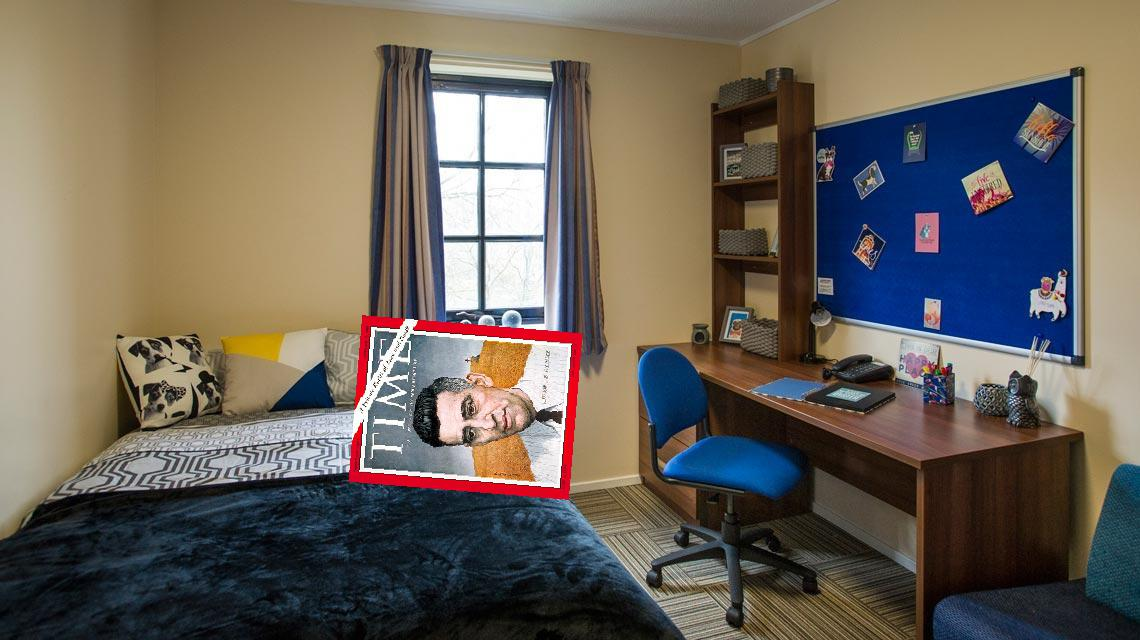times: (343, 316, 584, 496)
